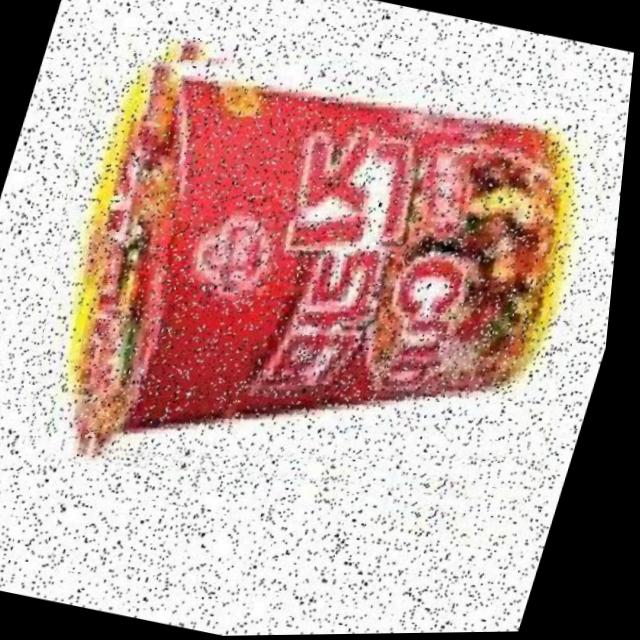Miscellaneous: (0, 8, 639, 550)
